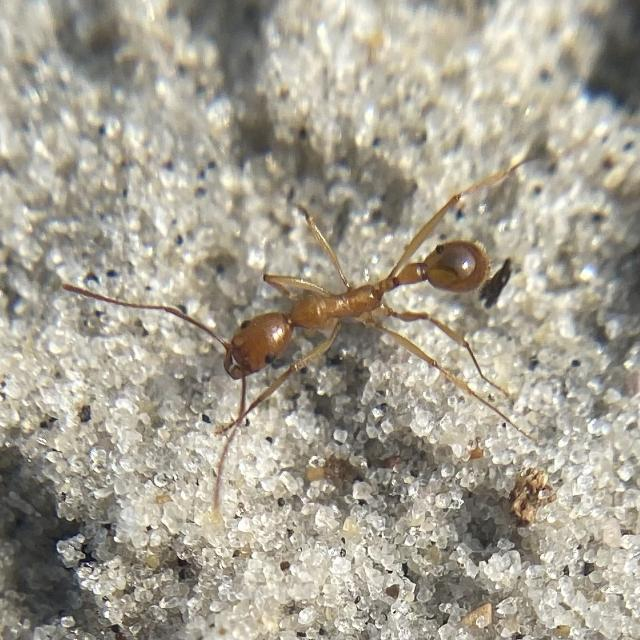Apheanogaster: (157, 164, 535, 438)
